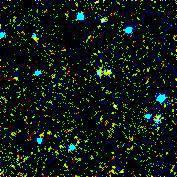star: (103, 148, 133, 177)
